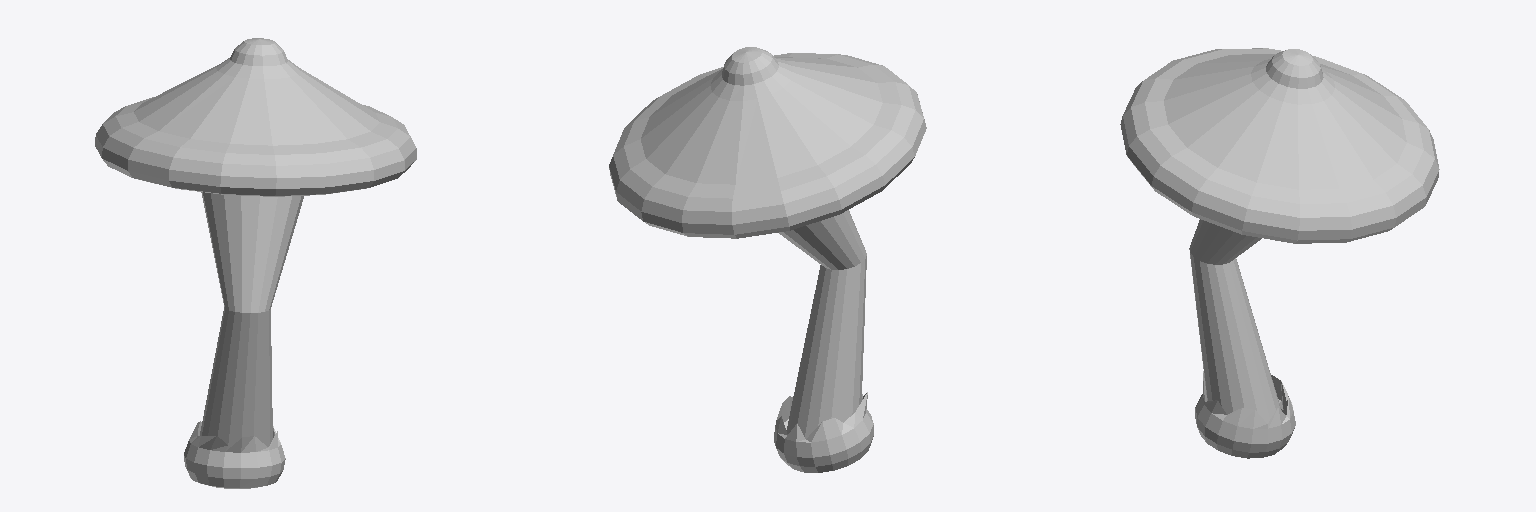
File: mushroom_1_007.obj
The picture shows the model from 3 angles: view 1: azimuth 30°, elevation 25°; view 2: azimuth 150°, elevation 25°; view 3: azimuth 270°, elevation 25°; orthographic projection.
Visible parts, largest first — view 1: Champ-A4_Plane.018; view 2: Champ-A4_Plane.018; view 3: Champ-A4_Plane.018.
Part boxes in pixels (left/top/right/bottom): Champ-A4_Plane.018: left=95, top=38, right=416, bottom=488; Champ-A4_Plane.018: left=609, top=47, right=926, bottom=472; Champ-A4_Plane.018: left=1120, top=48, right=1439, bottom=458.
Size of the model in its own units: 0.2748 by 0.3959 by 0.2758.